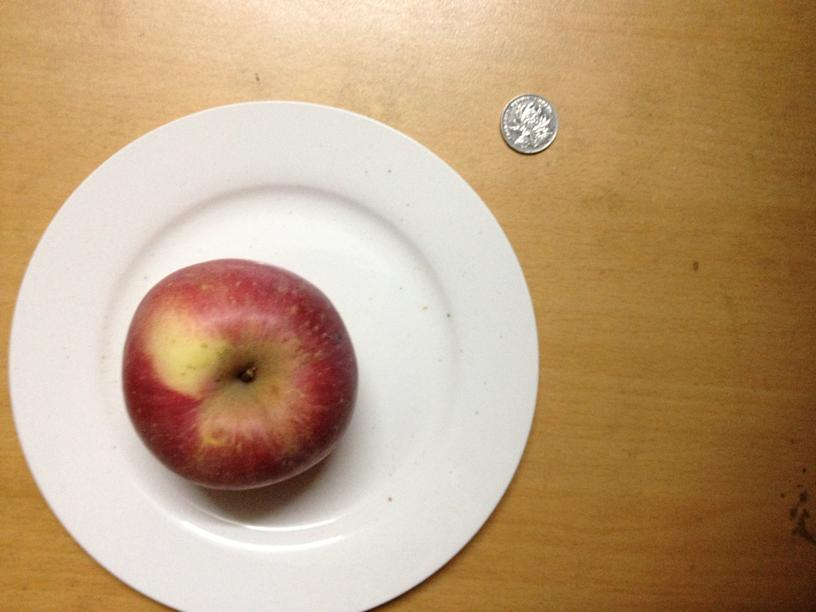apple: (115, 260, 356, 486)
coin: (496, 94, 558, 155)
